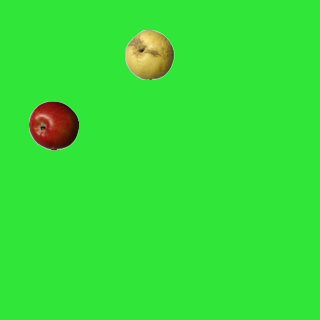Apple Braeburn: (28, 100, 78, 150)
Apple Golden 1: (124, 29, 174, 79)
